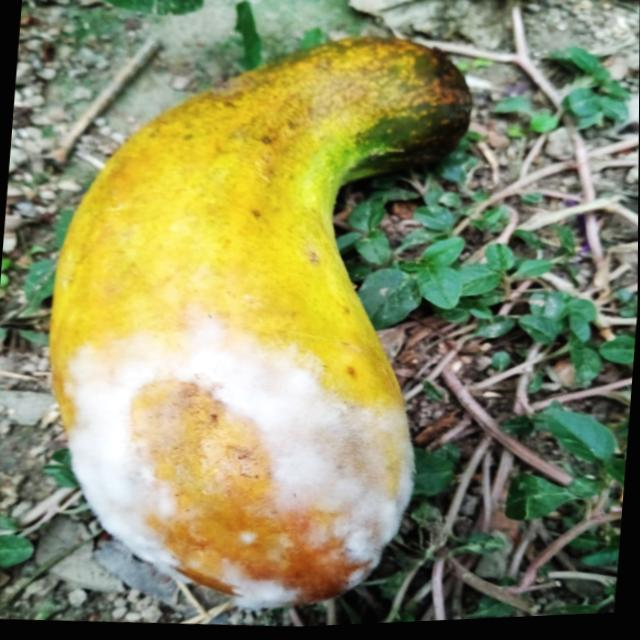Pythium-Fruit-Rot: (48, 295, 427, 631)
